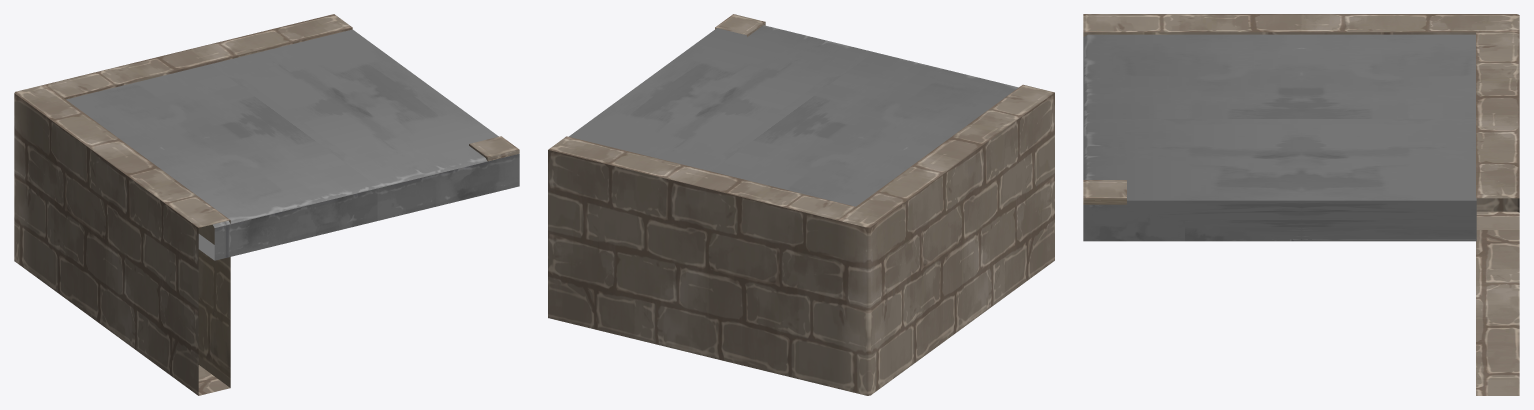
The model's file is Stairs_Exterior_Platform45.gltf.
3 renders of one model, left to right at view 1: azimuth 30°, elevation 25°; view 2: azimuth 150°, elevation 25°; view 3: azimuth 270°, elevation 25°, orthographic. The views are drawn at different scales.
Visible parts, largest first — view 1: Stairs_Exterior_Platform45; view 2: Stairs_Exterior_Platform45; view 3: Stairs_Exterior_Platform45.
Part boxes in pixels (x1,y1,x2,y2): Stairs_Exterior_Platform45: (14, 14, 519, 395); Stairs_Exterior_Platform45: (548, 14, 1054, 395); Stairs_Exterior_Platform45: (1083, 14, 1519, 395).
Bounding box in the file's own units: 2 × 1 × 2.
Materials: 2 (2 with a texture image).
